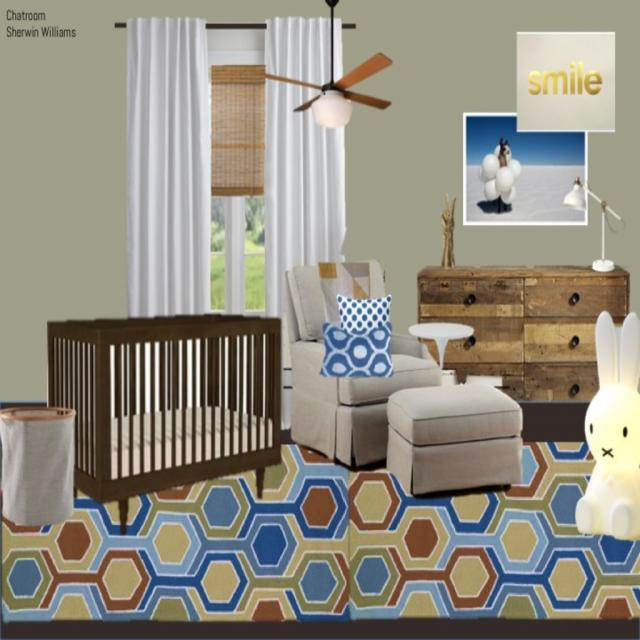fan_off: (270, 50, 396, 117)
